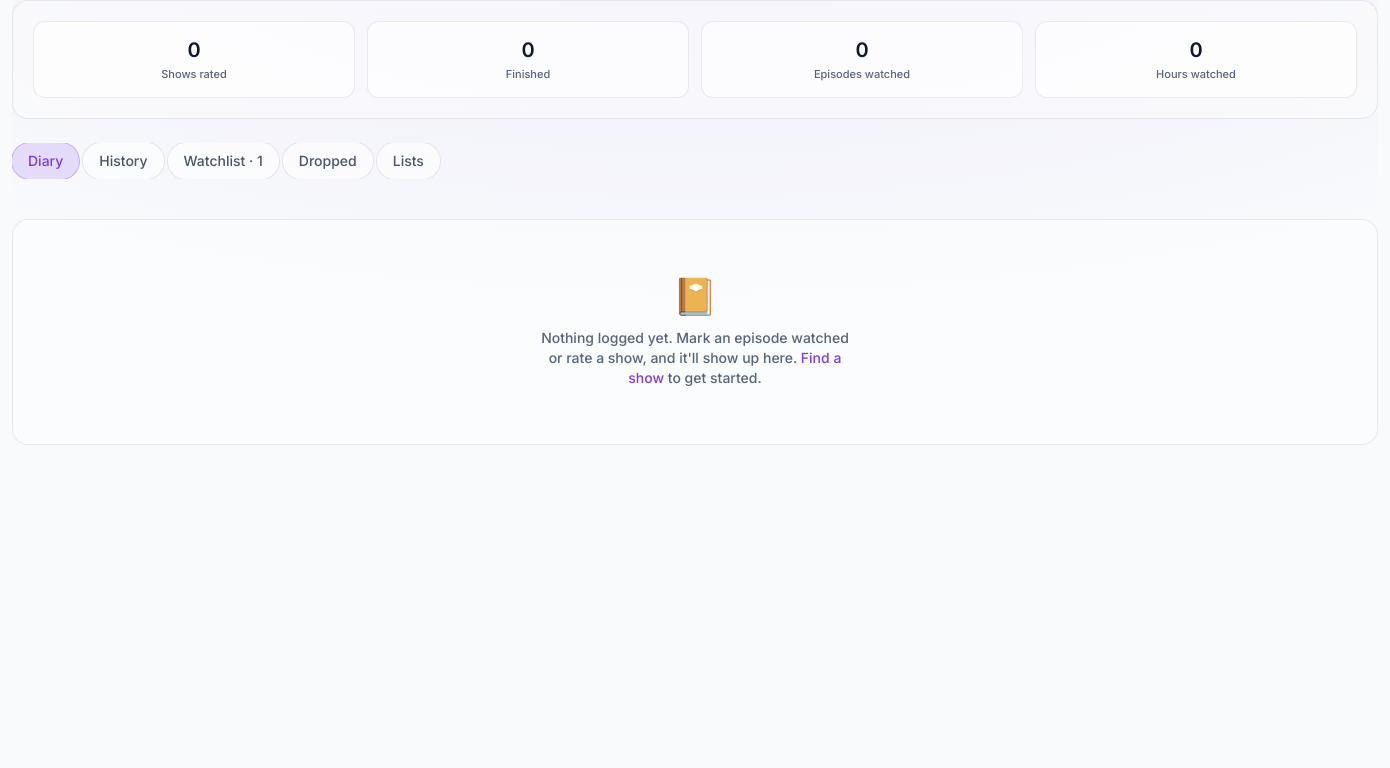
Test case: ProfileActivity › undoing a watchlist removal restores the item
Click the button "Watchlist · 1" at coordinates (223, 160), box [168, 142, 279, 178]
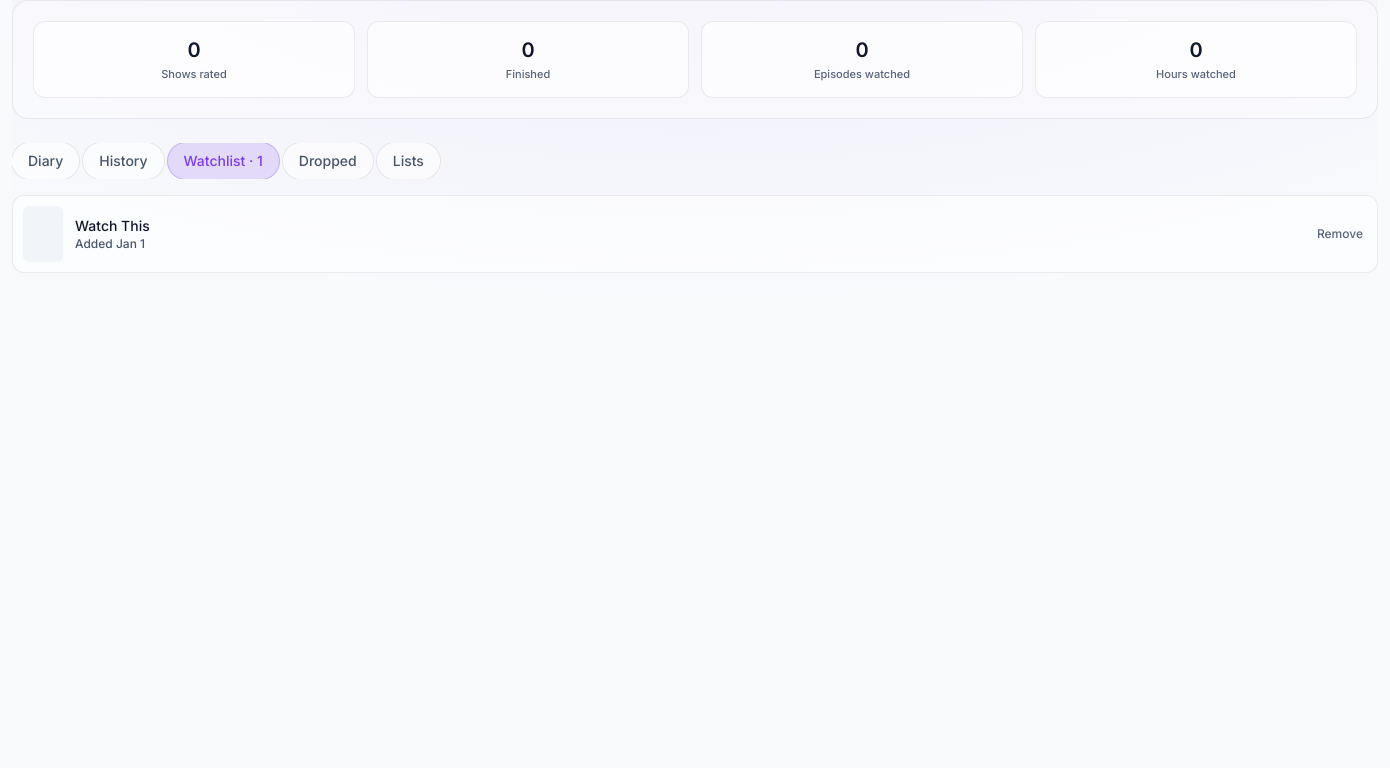
Click the button "Remove" at coordinates (1340, 234), box [1305, 212, 1375, 256]
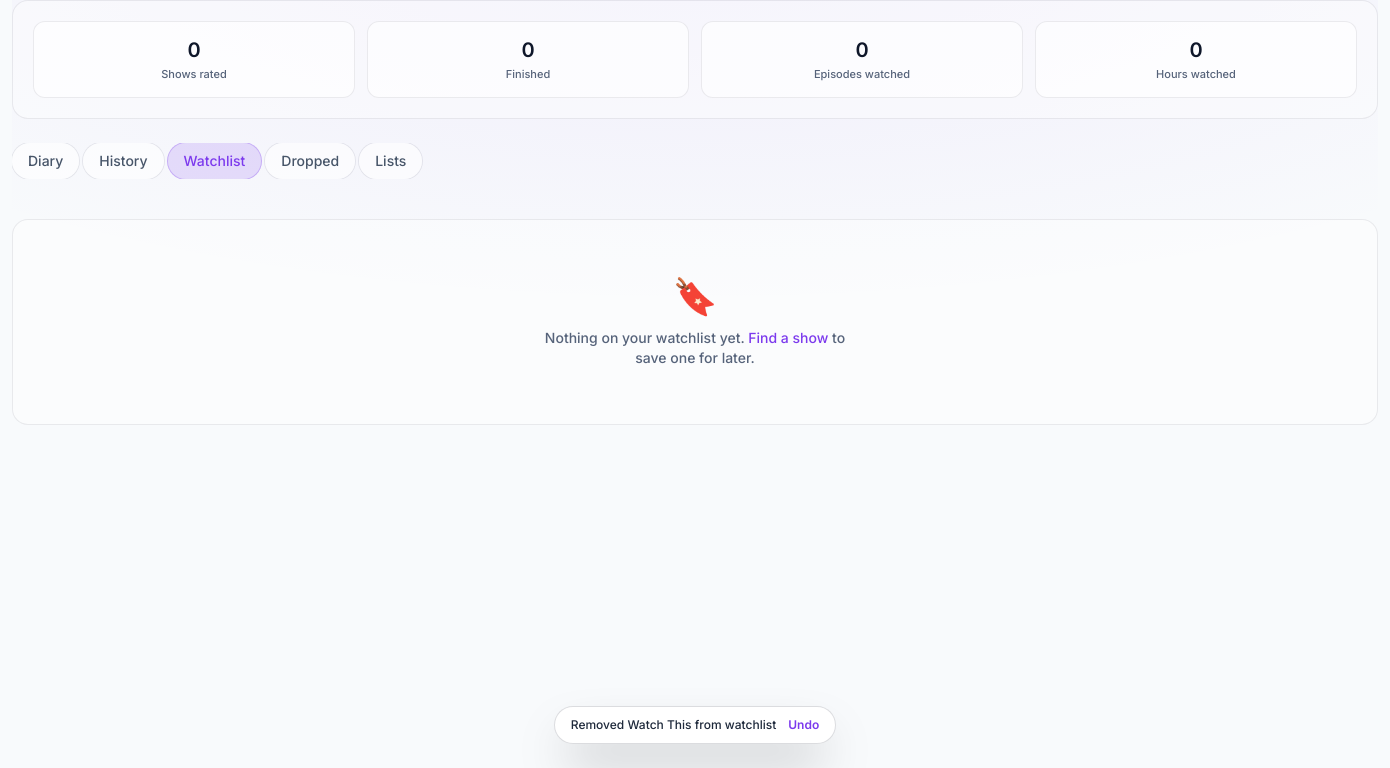
Now the button "Undo" is shown
Click the button "Undo" at coordinates (804, 725), box [788, 717, 819, 733]
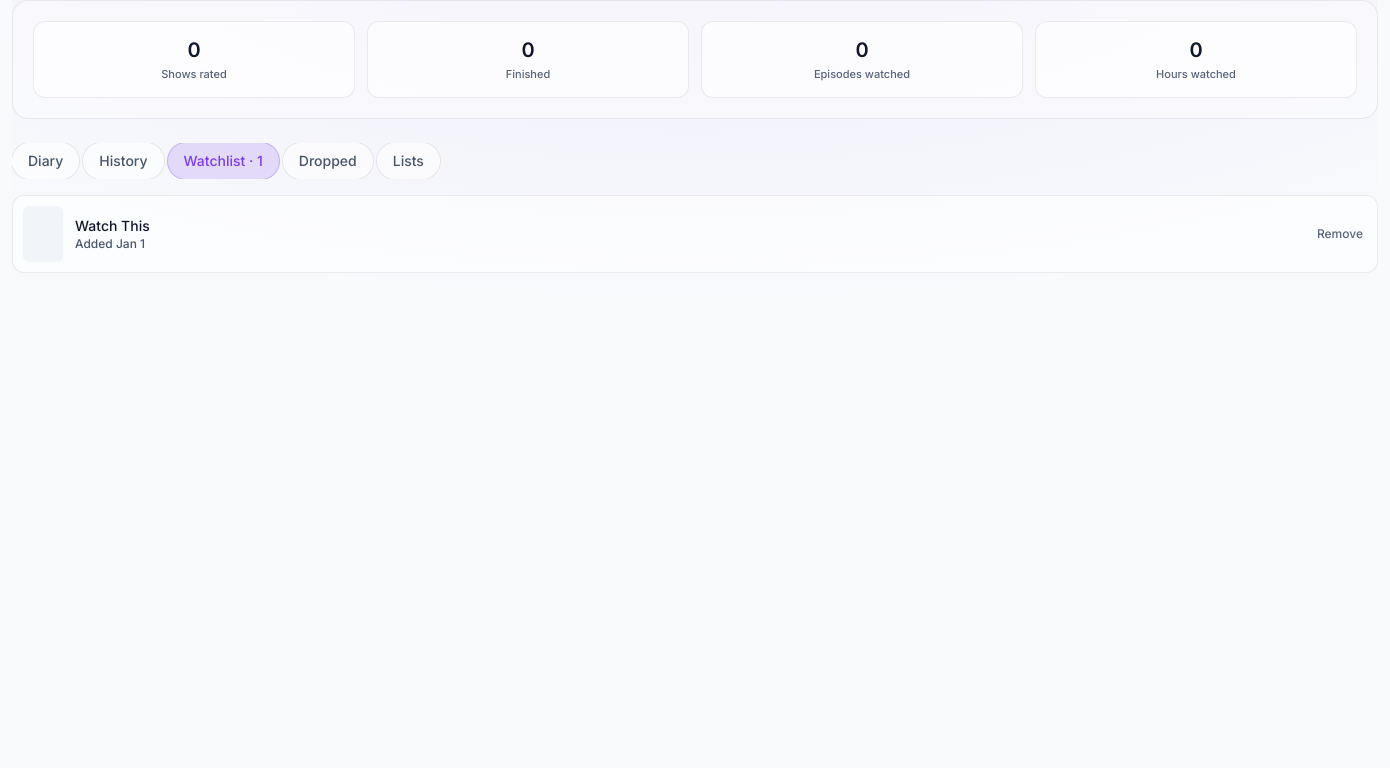
Now the text "Watch This" is shown, box [75, 216, 150, 234]
Now the button "Watchlist · 1" is shown, box [168, 142, 279, 178]
